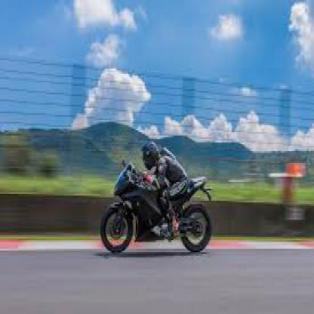Motocicleta: (102, 160, 214, 260)
